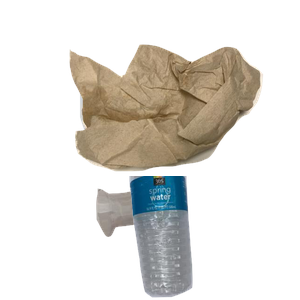cardboard: (77, 79, 251, 227)
glass: (94, 184, 253, 300)
plastic: (127, 176, 300, 300)
trash: (67, 42, 300, 206)
